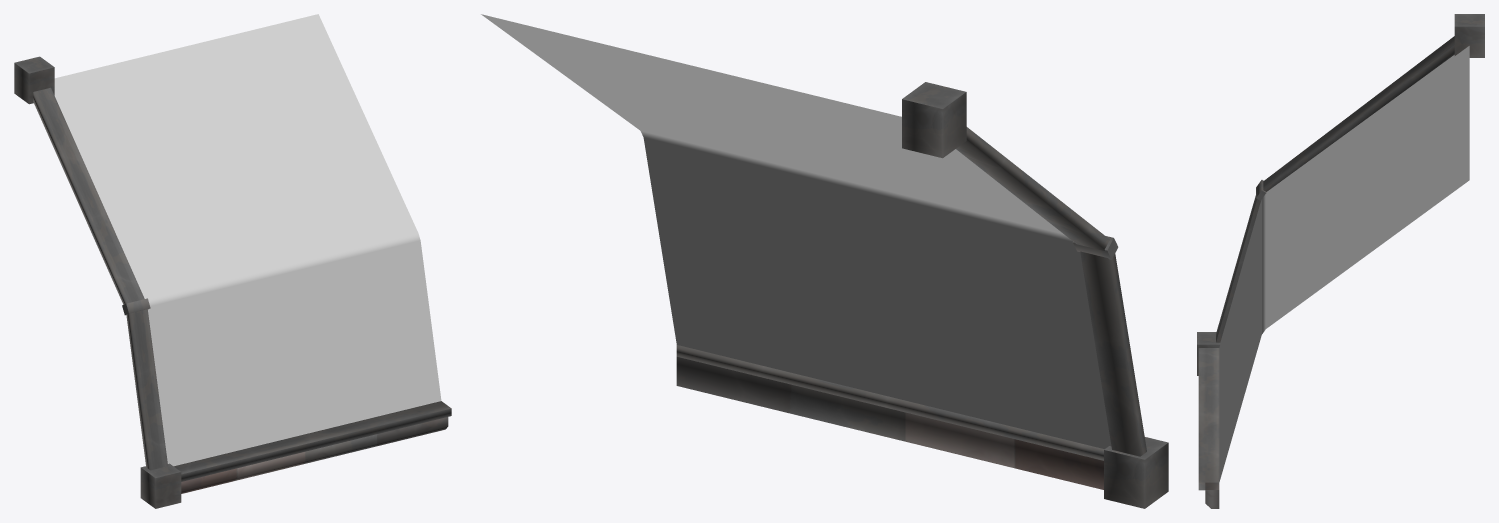
The model's file is Roof_01.fbx.
3 renders of one model, left to right at view 1: azimuth 30°, elevation 25°; view 2: azimuth 150°, elevation 25°; view 3: azimuth 270°, elevation 25°, orthographic. The views are drawn at different scales.
Parts seen in each view (by area): view 1: Roof_01, Roof_Trim_02, Roof_Trim_01, Roof_Cap_01; view 2: Roof_01, Roof_Trim_01, Roof_Trim_02, Roof_Cap_01; view 3: Roof_01, Roof_Trim_02, Roof_Trim_01, Roof_Cap_01.
Part boxes in pixels (<box>): Roof_01: <box>54,14,441,466</box>; Roof_Trim_02: <box>33,87,181,508</box>; Roof_Trim_01: <box>174,401,451,493</box>; Roof_Cap_01: <box>14,56,54,104</box>; Roof_01: <box>481,14,1111,449</box>; Roof_Trim_01: <box>676,345,1104,489</box>; Roof_Trim_02: <box>956,127,1168,508</box>; Roof_Cap_01: <box>902,82,966,158</box>; Roof_01: <box>1219,46,1469,481</box>; Roof_Trim_02: <box>1197,36,1454,375</box>; Roof_Trim_01: <box>1198,348,1219,508</box>; Roof_Cap_01: <box>1454,14,1484,57</box>.
Size of what is drawn, in the model's own units: 4.18 by 4.62 by 3.45.
